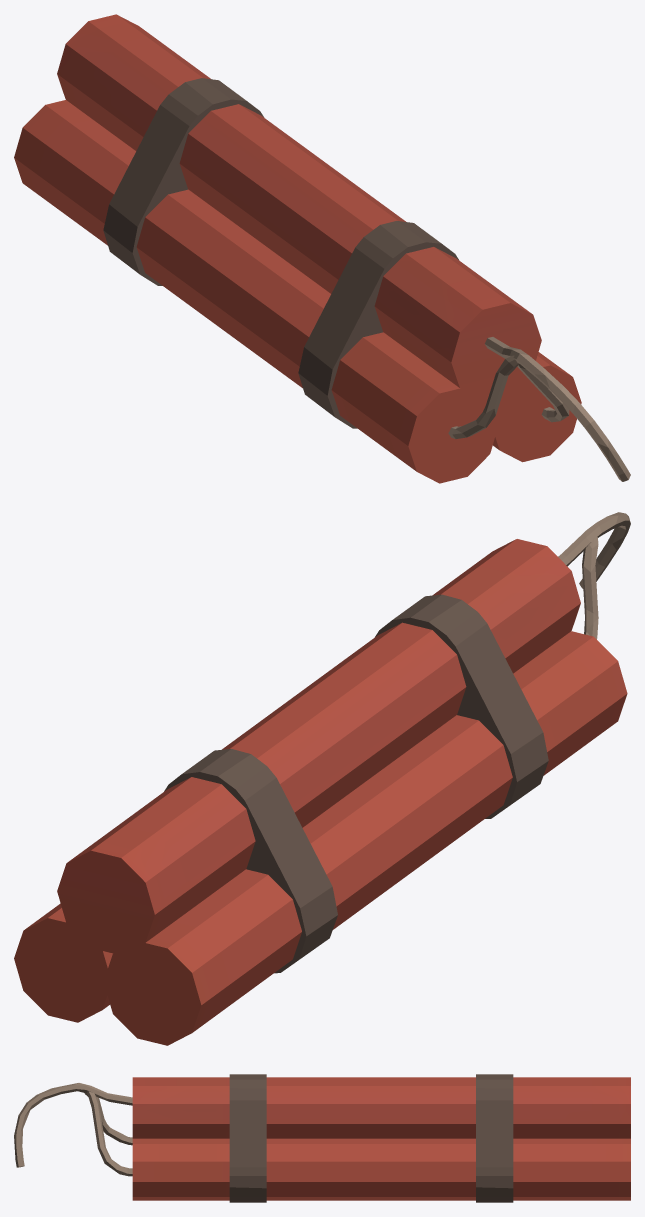
The model's file is SM_Fireuorks_01.fbx.
3 views of the same model, one above another, from view 1: azimuth 30°, elevation 25°; view 2: azimuth 150°, elevation 25°; view 3: azimuth 270°, elevation 25° (orthographic). The views are drawn at different scales.
Visible parts, largest first — view 1: SM_Fireuorks_01; view 2: SM_Fireuorks_01; view 3: SM_Fireuorks_01.
Part boxes in pixels (x1,y1,x2,y2): SM_Fireuorks_01: (14,14,630,483); SM_Fireuorks_01: (14,512,630,1045); SM_Fireuorks_01: (14,1074,630,1202).
Bounding box in the file's own units: 1.89 × 1.74 × 8.89.
Materials: 1 (1 with a texture image).
